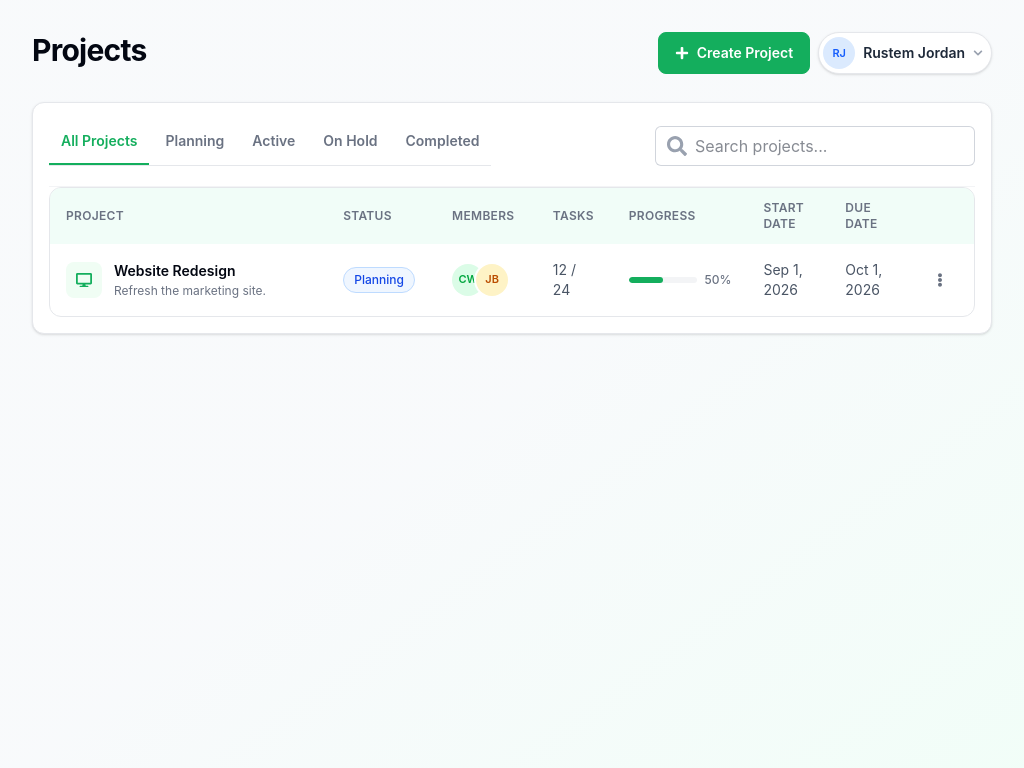
Projects page › disables delete modal actions while deletion is pending
The width and height of the screenshot is (1024, 768).
Click the button named "Actions for Website Redesign".
click(940, 280)  # box [922, 262, 958, 298]
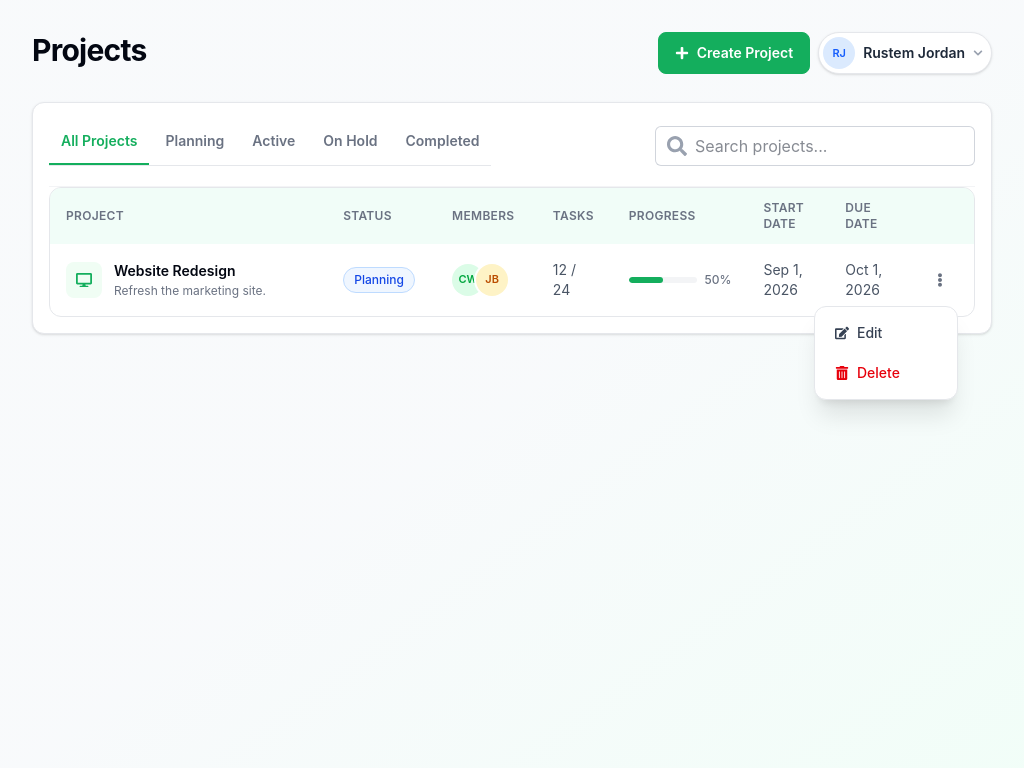
Click the menu item "Delete".
click(886, 373)  # box [823, 355, 949, 391]
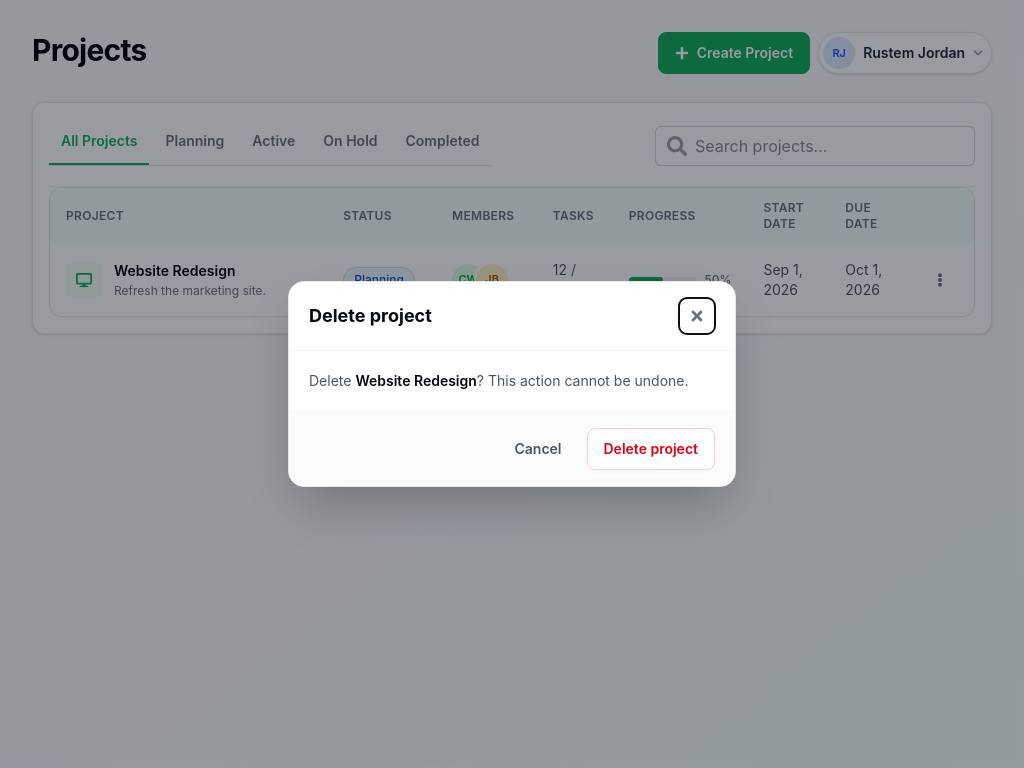
Click the button "Delete project".
click(651, 449)  # box [586, 428, 715, 470]
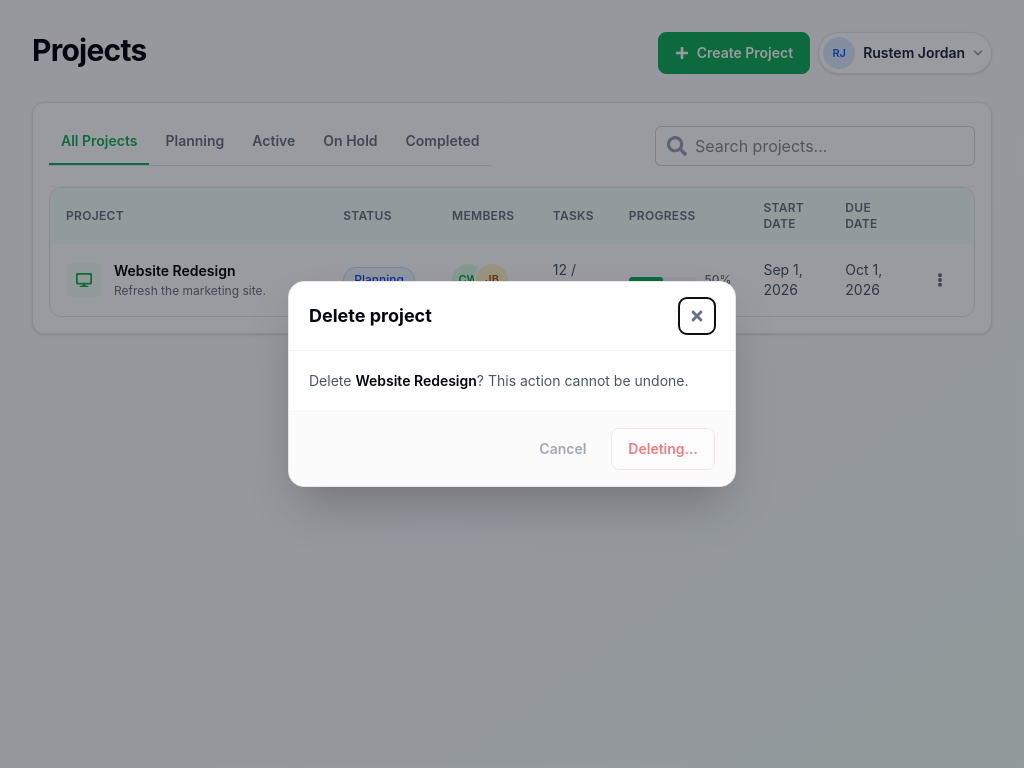
Expected: the button "Deleting…" is disabled, [611, 428, 715, 470]
Expected: the button "Cancel" is disabled, [522, 428, 603, 470]
